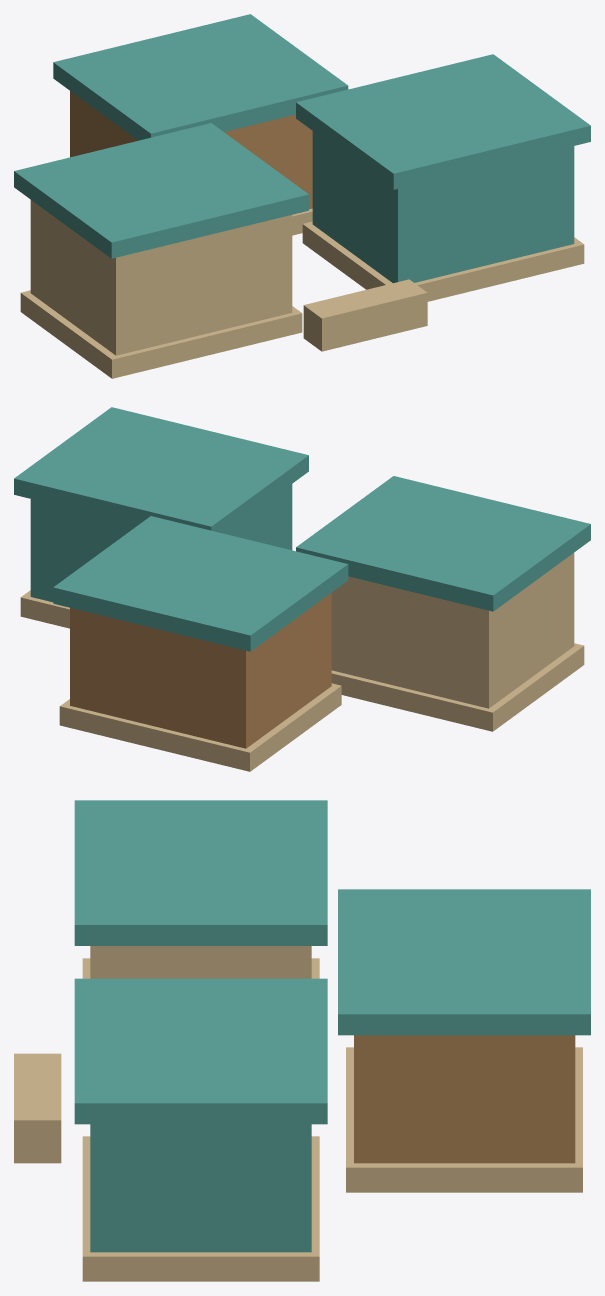
File: VillageHousing.glb
3 views of the same model, one above another, from view 1: azimuth 30°, elevation 25°; view 2: azimuth 150°, elevation 25°; view 3: azimuth 270°, elevation 25° (orthographic). The views are drawn at different scales.
Visible parts, largest first — view 1: hand-pump-static-housing-roof, hand-pump-static-housing-cream, hand-pump-static-housing-blue, hand-pump-static-housing-stone, hand-pump-static-housing-ochre; view 2: hand-pump-static-housing-roof, hand-pump-static-housing-ochre, hand-pump-static-housing-cream, hand-pump-static-housing-stone, hand-pump-static-housing-blue; view 3: hand-pump-static-housing-roof, hand-pump-static-housing-blue, hand-pump-static-housing-ochre, hand-pump-static-housing-stone, hand-pump-static-housing-cream.
Boxes of the visible parts, x1=… form: hand-pump-static-housing-roof: x1=14, y1=14, x2=590, y2=258; hand-pump-static-housing-cream: x1=30, y1=200, x2=292, y2=355; hand-pump-static-housing-blue: x1=312, y1=131, x2=574, y2=283; hand-pump-static-housing-stone: x1=20, y1=208, x2=584, y2=378; hand-pump-static-housing-ochre: x1=70, y1=91, x2=312, y2=209; hand-pump-static-housing-roof: x1=14, y1=407, x2=590, y2=651; hand-pump-static-housing-ochre: x1=70, y1=593, x2=331, y2=748; hand-pump-static-housing-cream: x1=331, y1=553, x2=574, y2=708; hand-pump-static-housing-stone: x1=20, y1=590, x2=584, y2=771; hand-pump-static-housing-blue: x1=30, y1=484, x2=292, y2=602; hand-pump-static-housing-roof: x1=74, y1=800, x2=590, y2=1124; hand-pump-static-housing-blue: x1=90, y1=1124, x2=311, y2=1252; hand-pump-static-housing-ochre: x1=354, y1=1035, x2=575, y2=1163; hand-pump-static-housing-stone: x1=14, y1=958, x2=582, y2=1281; hand-pump-static-housing-cream: x1=90, y1=946, x2=311, y2=978.
Size of the model in its own units: 6.8 by 1.89 by 5.48.
